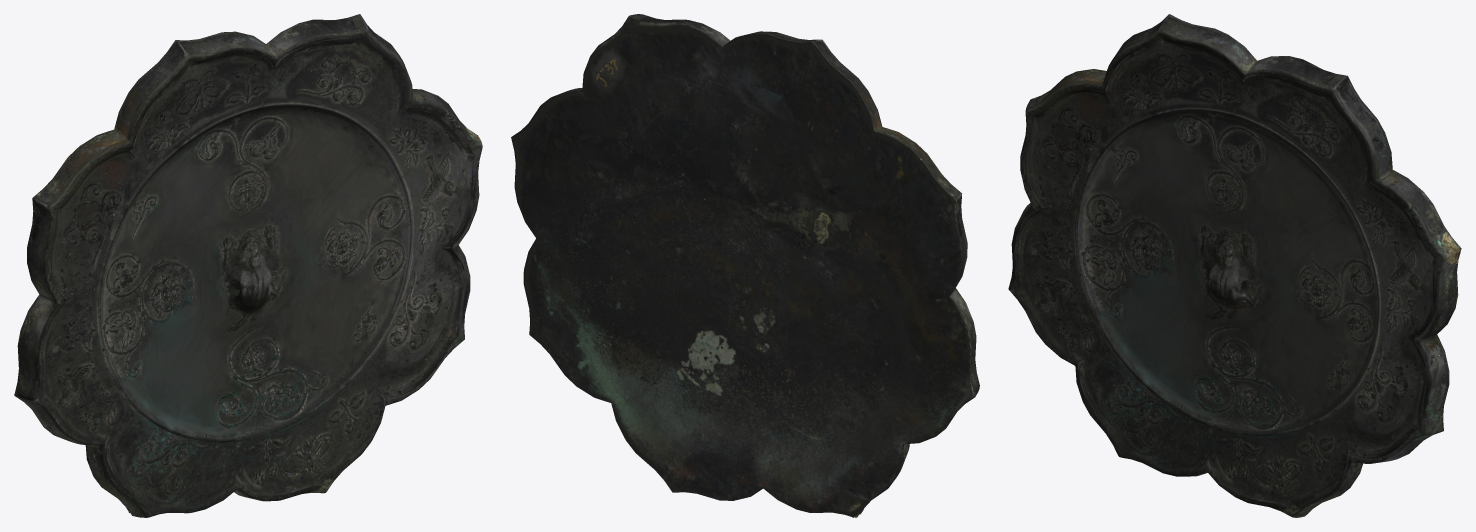
Rendered from mirror.glb.
3 renders of one model, left to right at view 1: azimuth 30°, elevation 25°; view 2: azimuth 150°, elevation 25°; view 3: azimuth 330°, elevation 25°, orthographic. The views are drawn at different scales.
Visible parts, largest first — view 1: 913（镜37）_唐双鸾瑞兽纹铜镜_一级文物; view 2: 913（镜37）_唐双鸾瑞兽纹铜镜_一级文物; view 3: 913（镜37）_唐双鸾瑞兽纹铜镜_一级文物.
Boxes of the visible parts, bbox=[...] form: 913（镜37）_唐双鸾瑞兽纹铜镜_一级文物: bbox=[14, 14, 482, 517]; 913（镜37）_唐双鸾瑞兽纹铜镜_一级文物: bbox=[511, 14, 979, 517]; 913（镜37）_唐双鸾瑞兽纹铜镜_一级文物: bbox=[1008, 14, 1461, 517].
Bounding box in the file's own units: 2 × 2 × 0.1151.
1 material, 1 textured.
